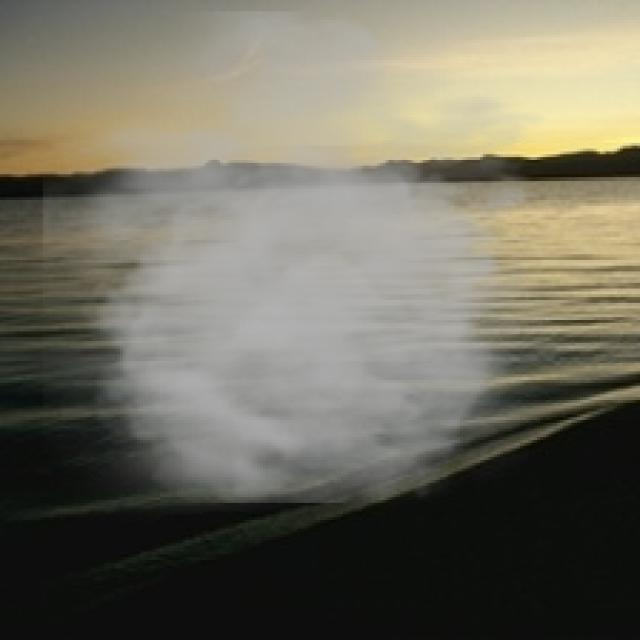smoke: (43, 12, 597, 534)
